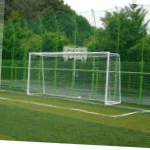goals: (24, 49, 122, 107)
